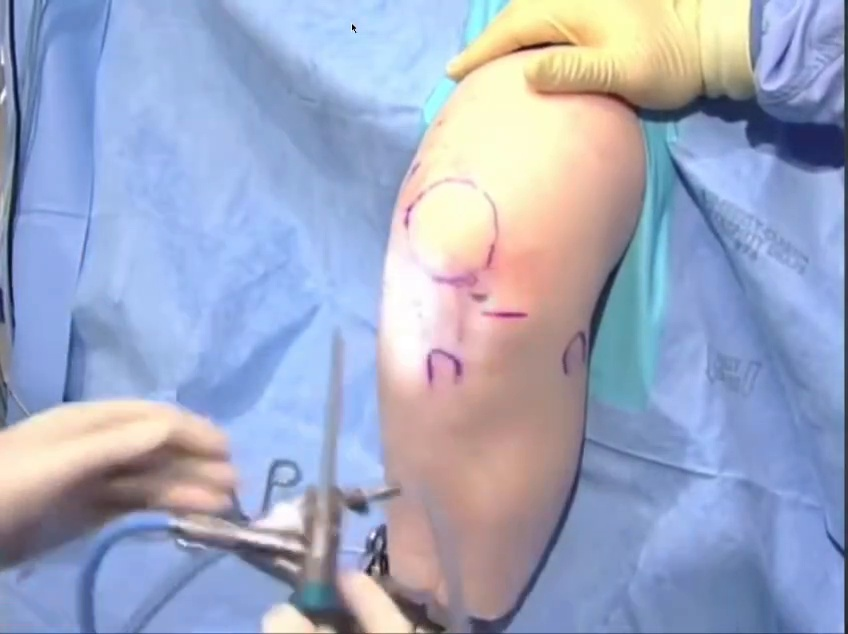arthroscope: (42, 342, 315, 508), (644, 0, 848, 145)
probe: (740, 135, 848, 564), (651, 102, 806, 307), (286, 249, 402, 473), (84, 194, 206, 371)
